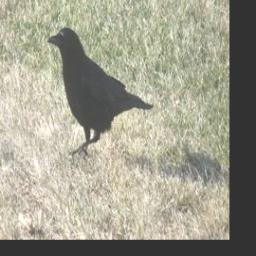Crow: (44, 22, 151, 154)
